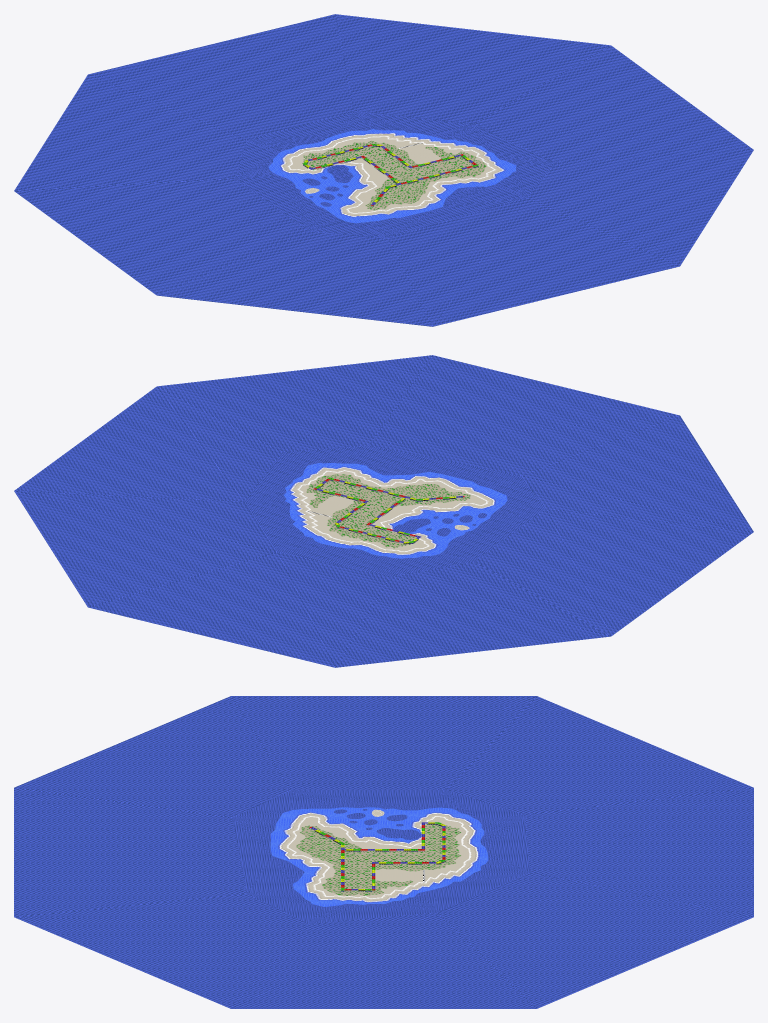
Rendered from old_noko_sfc.glb.
3 views of the same model, one above another, from view 1: azimuth 30°, elevation 25°; view 2: azimuth 150°, elevation 25°; view 3: azimuth 270°, elevation 25° (orthographic). The views are drawn at different scales.
Parts seen in each view (by area): view 1: old_noko_sfc; view 2: old_noko_sfc; view 3: old_noko_sfc.
Part boxes in pixels (left/top/right/bottom): old_noko_sfc: left=14, top=14, right=753, bottom=326; old_noko_sfc: left=14, top=355, right=753, bottom=667; old_noko_sfc: left=14, top=696, right=753, bottom=1008.
Size of the model in its own units: 674 by 1.25 by 674.
8 materials, 8 textured.
